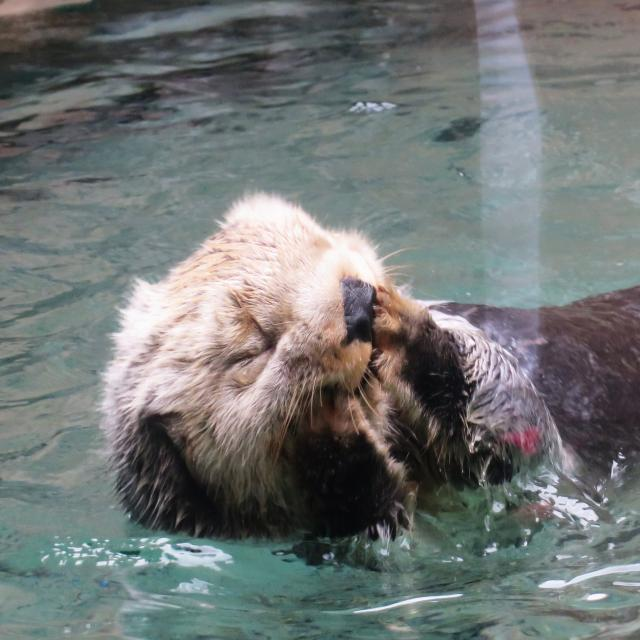otter: (112, 204, 542, 541)
